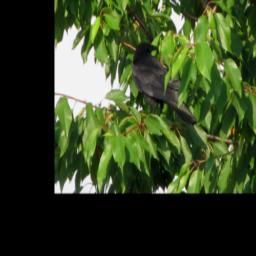Crow: (131, 42, 198, 125)
